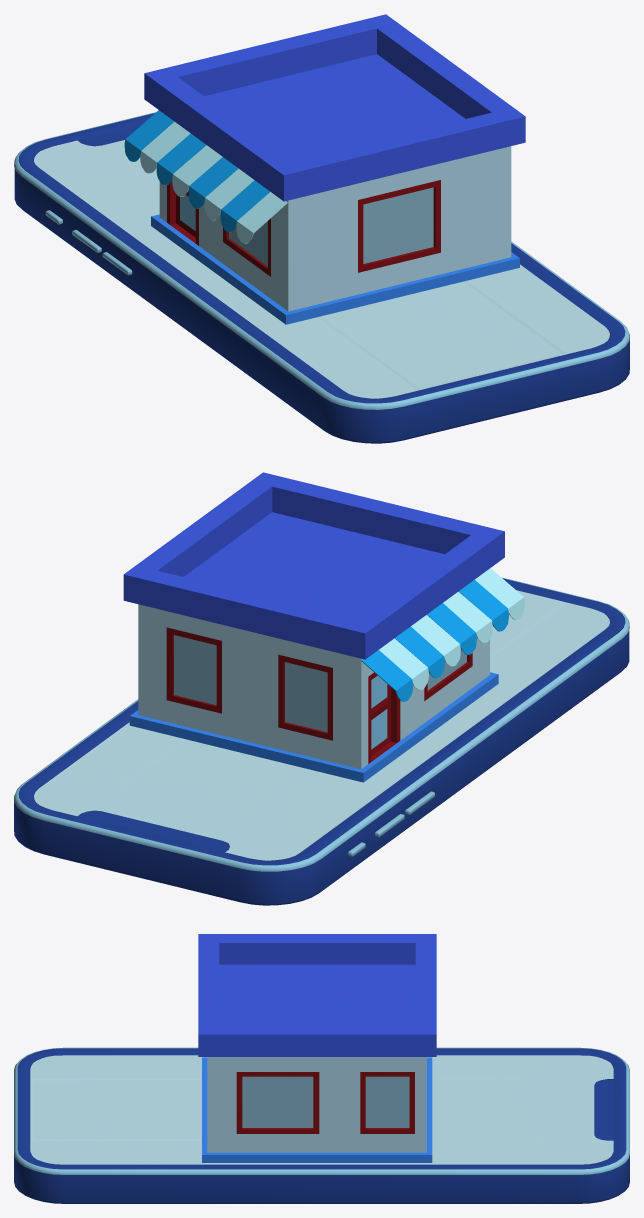
File: shop-transformed.glb
The picture shows the model from 3 angles, top to bottom: view 1: azimuth 30°, elevation 25°; view 2: azimuth 150°, elevation 25°; view 3: azimuth 270°, elevation 25°; orthographic projection. The views are drawn at different scales.
Visible parts, largest first — view 1: Object_2; view 2: Object_2; view 3: Object_2.
Boxes of the visible parts, bbox=[...] form: Object_2: bbox=[14, 14, 629, 443]; Object_2: bbox=[14, 472, 629, 905]; Object_2: bbox=[14, 934, 629, 1203].
Bounding box in the file's own units: 6.59 × 3.94 × 13.57.
1 material, 1 textured.
